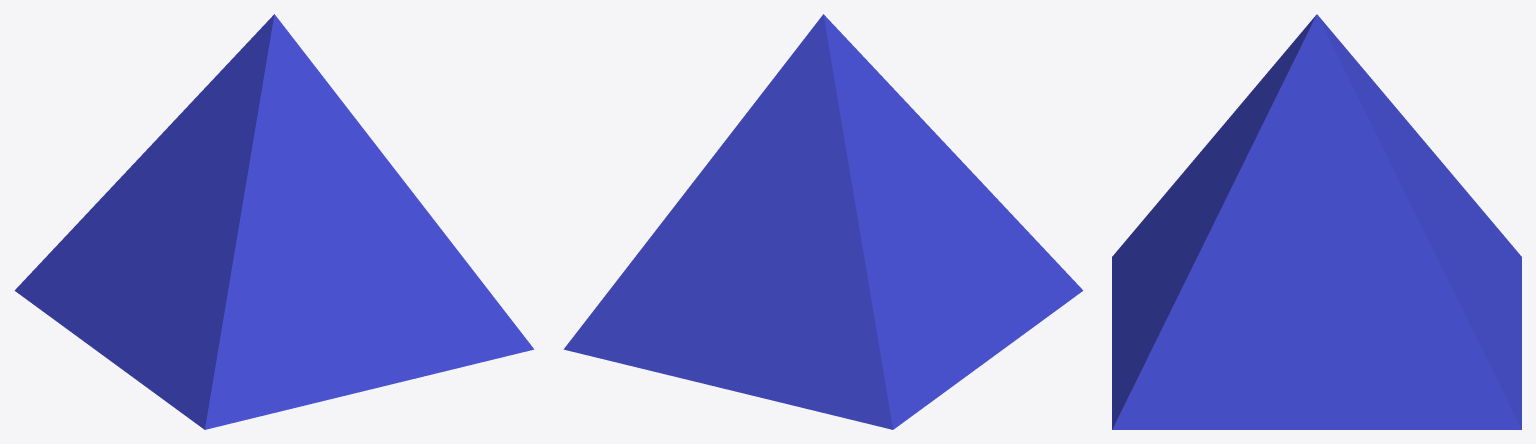
Rendered from Без имени.fbx.
3 renders of one model, left to right at view 1: azimuth 30°, elevation 25°; view 2: azimuth 150°, elevation 25°; view 3: azimuth 270°, elevation 25°, orthographic. The views are drawn at different scales.
Visible parts, largest first — view 1: root; view 2: root; view 3: root.
Boxes of the visible parts, bbox=[...] form: root: bbox=[14, 14, 534, 429]; root: bbox=[563, 14, 1083, 429]; root: bbox=[1112, 14, 1521, 429].
Bounding box in the file's own units: 0.1883 × 0.1671 × 0.1883.
